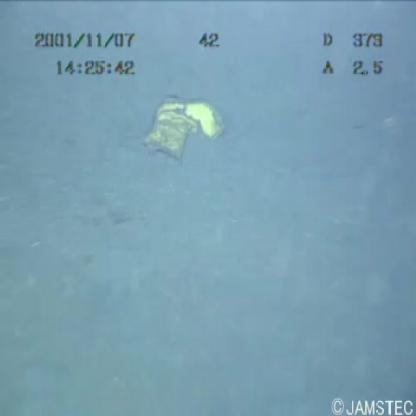Rác: (130, 94, 238, 166)
